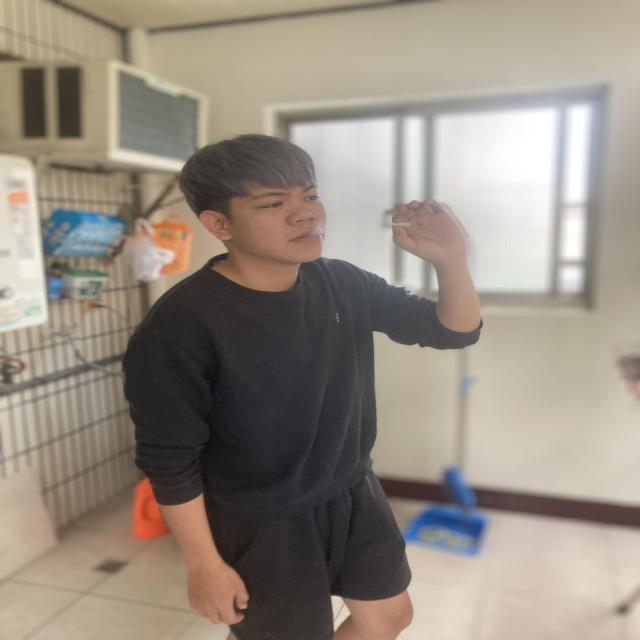cigarette: (373, 216, 431, 232)
